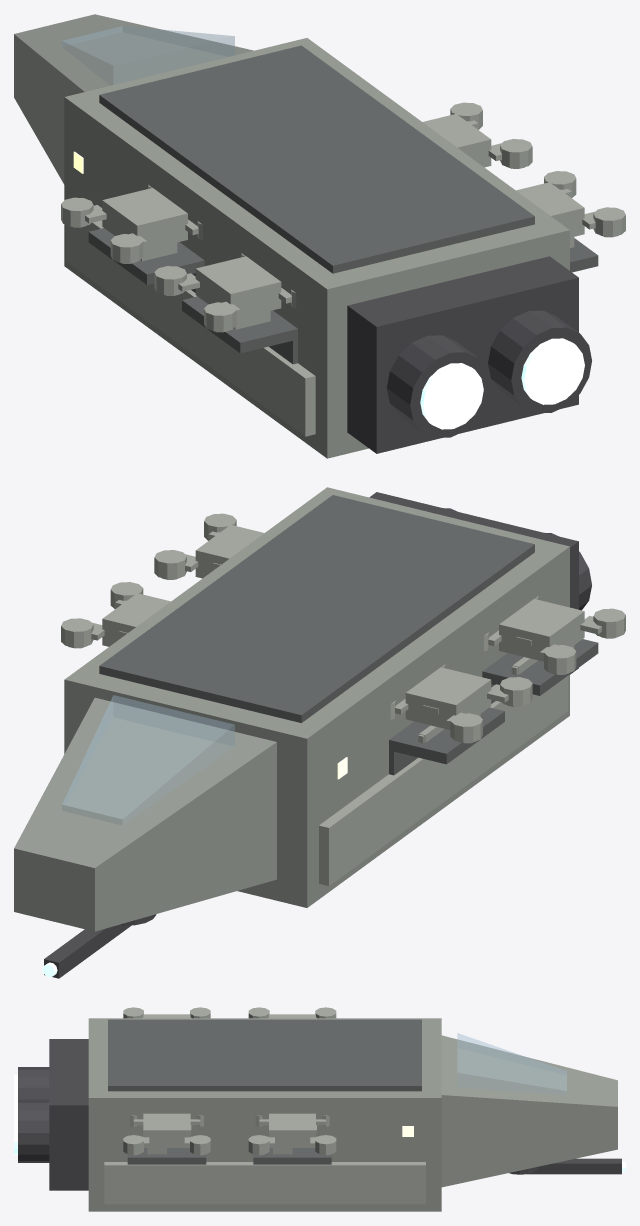
The model's file is ship_XS_MINER.glb.
The picture shows the model from 3 angles, top to bottom: view 1: azimuth 30°, elevation 25°; view 2: azimuth 150°, elevation 25°; view 3: azimuth 270°, elevation 25°; orthographic projection. The views are drawn at different scales.
Parts seen in each view (by area): view 1: XS_MINER_Hull-col, XS_MINER_HoldHatch-col, XS_MINER_Engines, XS_MINER_Armor, XS_MINER_EngineGlow, XS_MINER_Glass-col, XS_MINER_Drone_1, XS_MINER_Drone_2, XS_MINER_Trim, XS_MINER_Drone_3, XS_MINER_Drone_4; view 2: XS_MINER_Hull-col, XS_MINER_HoldHatch-col, XS_MINER_Glass-col, XS_MINER_Armor, XS_MINER_Drone_2, XS_MINER_Drone_1, XS_MINER_Trim, XS_MINER_Drone_4, XS_MINER_Drone_3, XS_MINER_Engines, XS_MINER_MiningLaser; view 3: XS_MINER_Hull-col, XS_MINER_HoldHatch-col, XS_MINER_Armor, XS_MINER_Engines, XS_MINER_Glass-col, XS_MINER_Drone_4, XS_MINER_Drone_3, XS_MINER_Trim, XS_MINER_MiningLaser, XS_MINER_Drone_2, XS_MINER_Drone_1, XS_MINER_EngineGlow.
Boxes of the visible parts, x1=… form: XS_MINER_Hull-col: x1=14, y1=14, x2=569, y2=458; XS_MINER_HoldHatch-col: x1=99, y1=45, x2=534, y2=273; XS_MINER_Engines: x1=347, y1=256, x2=591, y2=453; XS_MINER_Armor: x1=66, y1=220, x2=315, y2=436; XS_MINER_EngineGlow: x1=420, y1=338, x2=584, y2=429; XS_MINER_Glass-col: x1=62, y1=26, x2=234, y2=84; XS_MINER_Drone_1: x1=154, y1=253, x2=296, y2=332; XS_MINER_Drone_2: x1=61, y1=185, x2=202, y2=263; XS_MINER_Trim: x1=88, y1=228, x2=598, y2=364; XS_MINER_Drone_3: x1=516, y1=171, x2=625, y2=247; XS_MINER_Drone_4: x1=422, y1=102, x2=532, y2=168; XS_MINER_Hull-col: x1=14, y1=487, x2=569, y2=931; XS_MINER_HoldHatch-col: x1=99, y1=495, x2=534, y2=722; XS_MINER_Glass-col: x1=62, y1=695, x2=234, y2=825; XS_MINER_Armor: x1=319, y1=676, x2=568, y2=885; XS_MINER_Drone_2: x1=390, y1=664, x2=532, y2=743; XS_MINER_Drone_1: x1=484, y1=596, x2=625, y2=674; XS_MINER_Trim: x1=389, y1=639, x2=598, y2=775; XS_MINER_Drone_4: x1=61, y1=582, x2=170, y2=648; XS_MINER_Drone_3: x1=154, y1=513, x2=264, y2=579; XS_MINER_Engines: x1=369, y1=492, x2=591, y2=674; XS_MINER_MiningLaser: x1=44, y1=914, x2=156, y2=978; XS_MINER_Hull-col: x1=88, y1=1018, x2=617, y2=1211; XS_MINER_HoldHatch-col: x1=108, y1=1019, x2=421, y2=1091; XS_MINER_Armor: x1=104, y1=1162, x2=425, y2=1204; XS_MINER_Engines: x1=18, y1=1039, x2=88, y2=1190; XS_MINER_Glass-col: x1=457, y1=1033, x2=566, y2=1094; XS_MINER_Drone_4: x1=248, y1=1113, x2=336, y2=1155; XS_MINER_Drone_3: x1=123, y1=1113, x2=210, y2=1155; XS_MINER_Trim: x1=127, y1=1148, x2=331, y2=1164; XS_MINER_MiningLaser: x1=509, y1=1158, x2=621, y2=1174; XS_MINER_Drone_2: x1=248, y1=1007, x2=336, y2=1018; XS_MINER_Drone_1: x1=123, y1=1007, x2=210, y2=1018; XS_MINER_EngineGlow: x1=14, y1=1075, x2=17, y2=1154.
Size of the model in its own units: 8.26 by 3.75 by 15.6.
